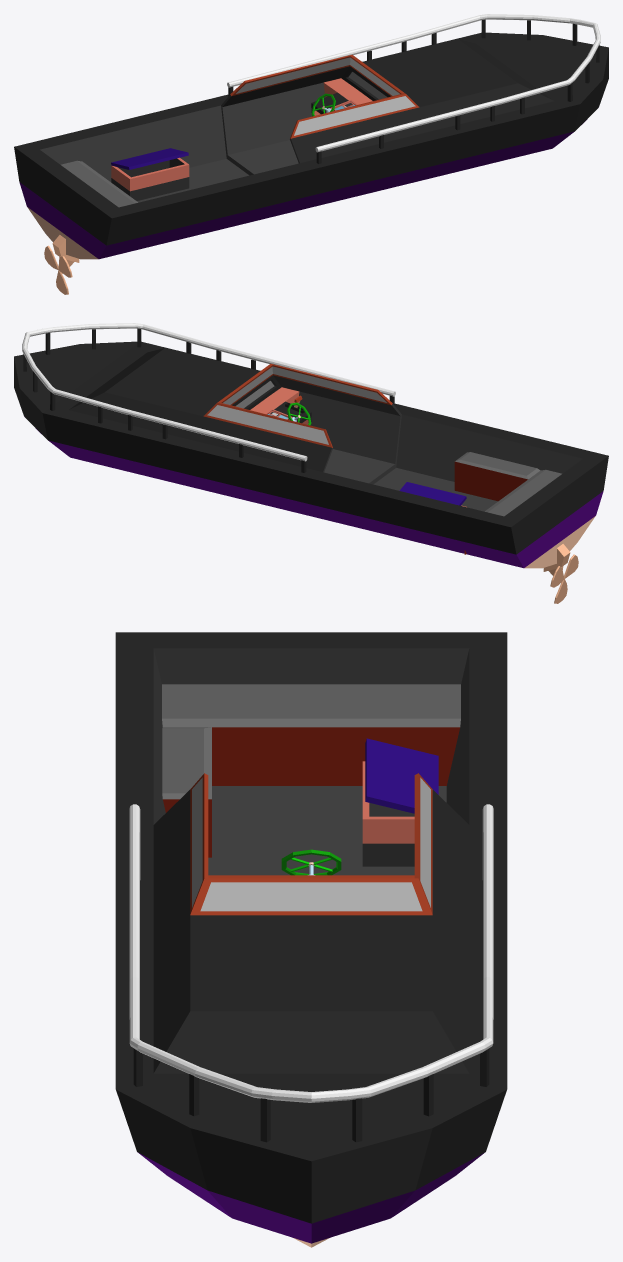
File: speed-boat.glb
3 renders of one model, top to bottom at view 1: azimuth 30°, elevation 25°; view 2: azimuth 150°, elevation 25°; view 3: azimuth 270°, elevation 25°, orthographic. The views are drawn at different scales.
Parts seen in each view (by area): view 1: Speed_Boat; view 2: Speed_Boat; view 3: Speed_Boat.
Part boxes in pixels (x1,y1,x2,y2): Speed_Boat: [14, 14, 608, 294]; Speed_Boat: [14, 323, 608, 603]; Speed_Boat: [115, 632, 507, 1247].
Size of the model in its own units: 7.28 by 1.78 by 2.23.
Materials: 1 (1 with a texture image).
